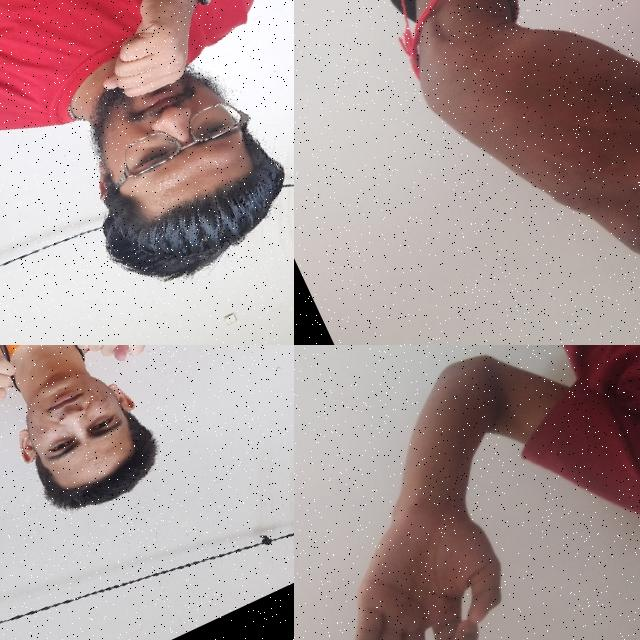Dulya: (48, 345, 173, 387), (0, 345, 35, 442)
Fist Mouth: (23, 0, 294, 295)
Okay: (294, 457, 558, 640)
Reversed Victory: (385, 0, 640, 345)
